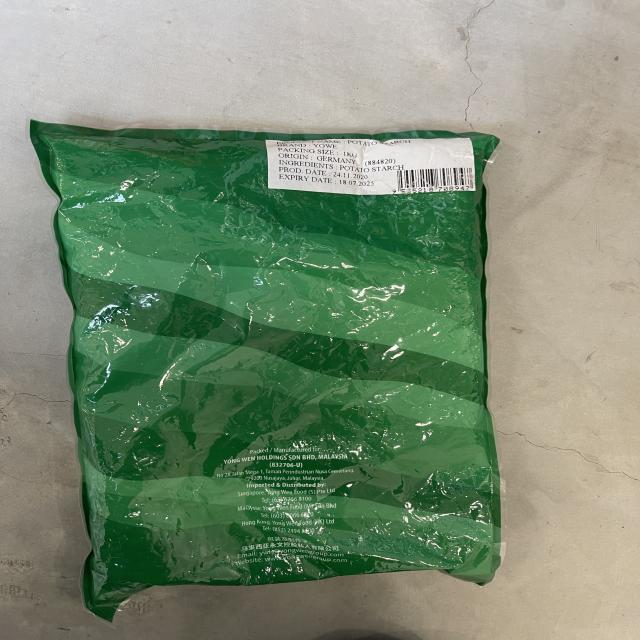object_name: (43, 125, 497, 580)
